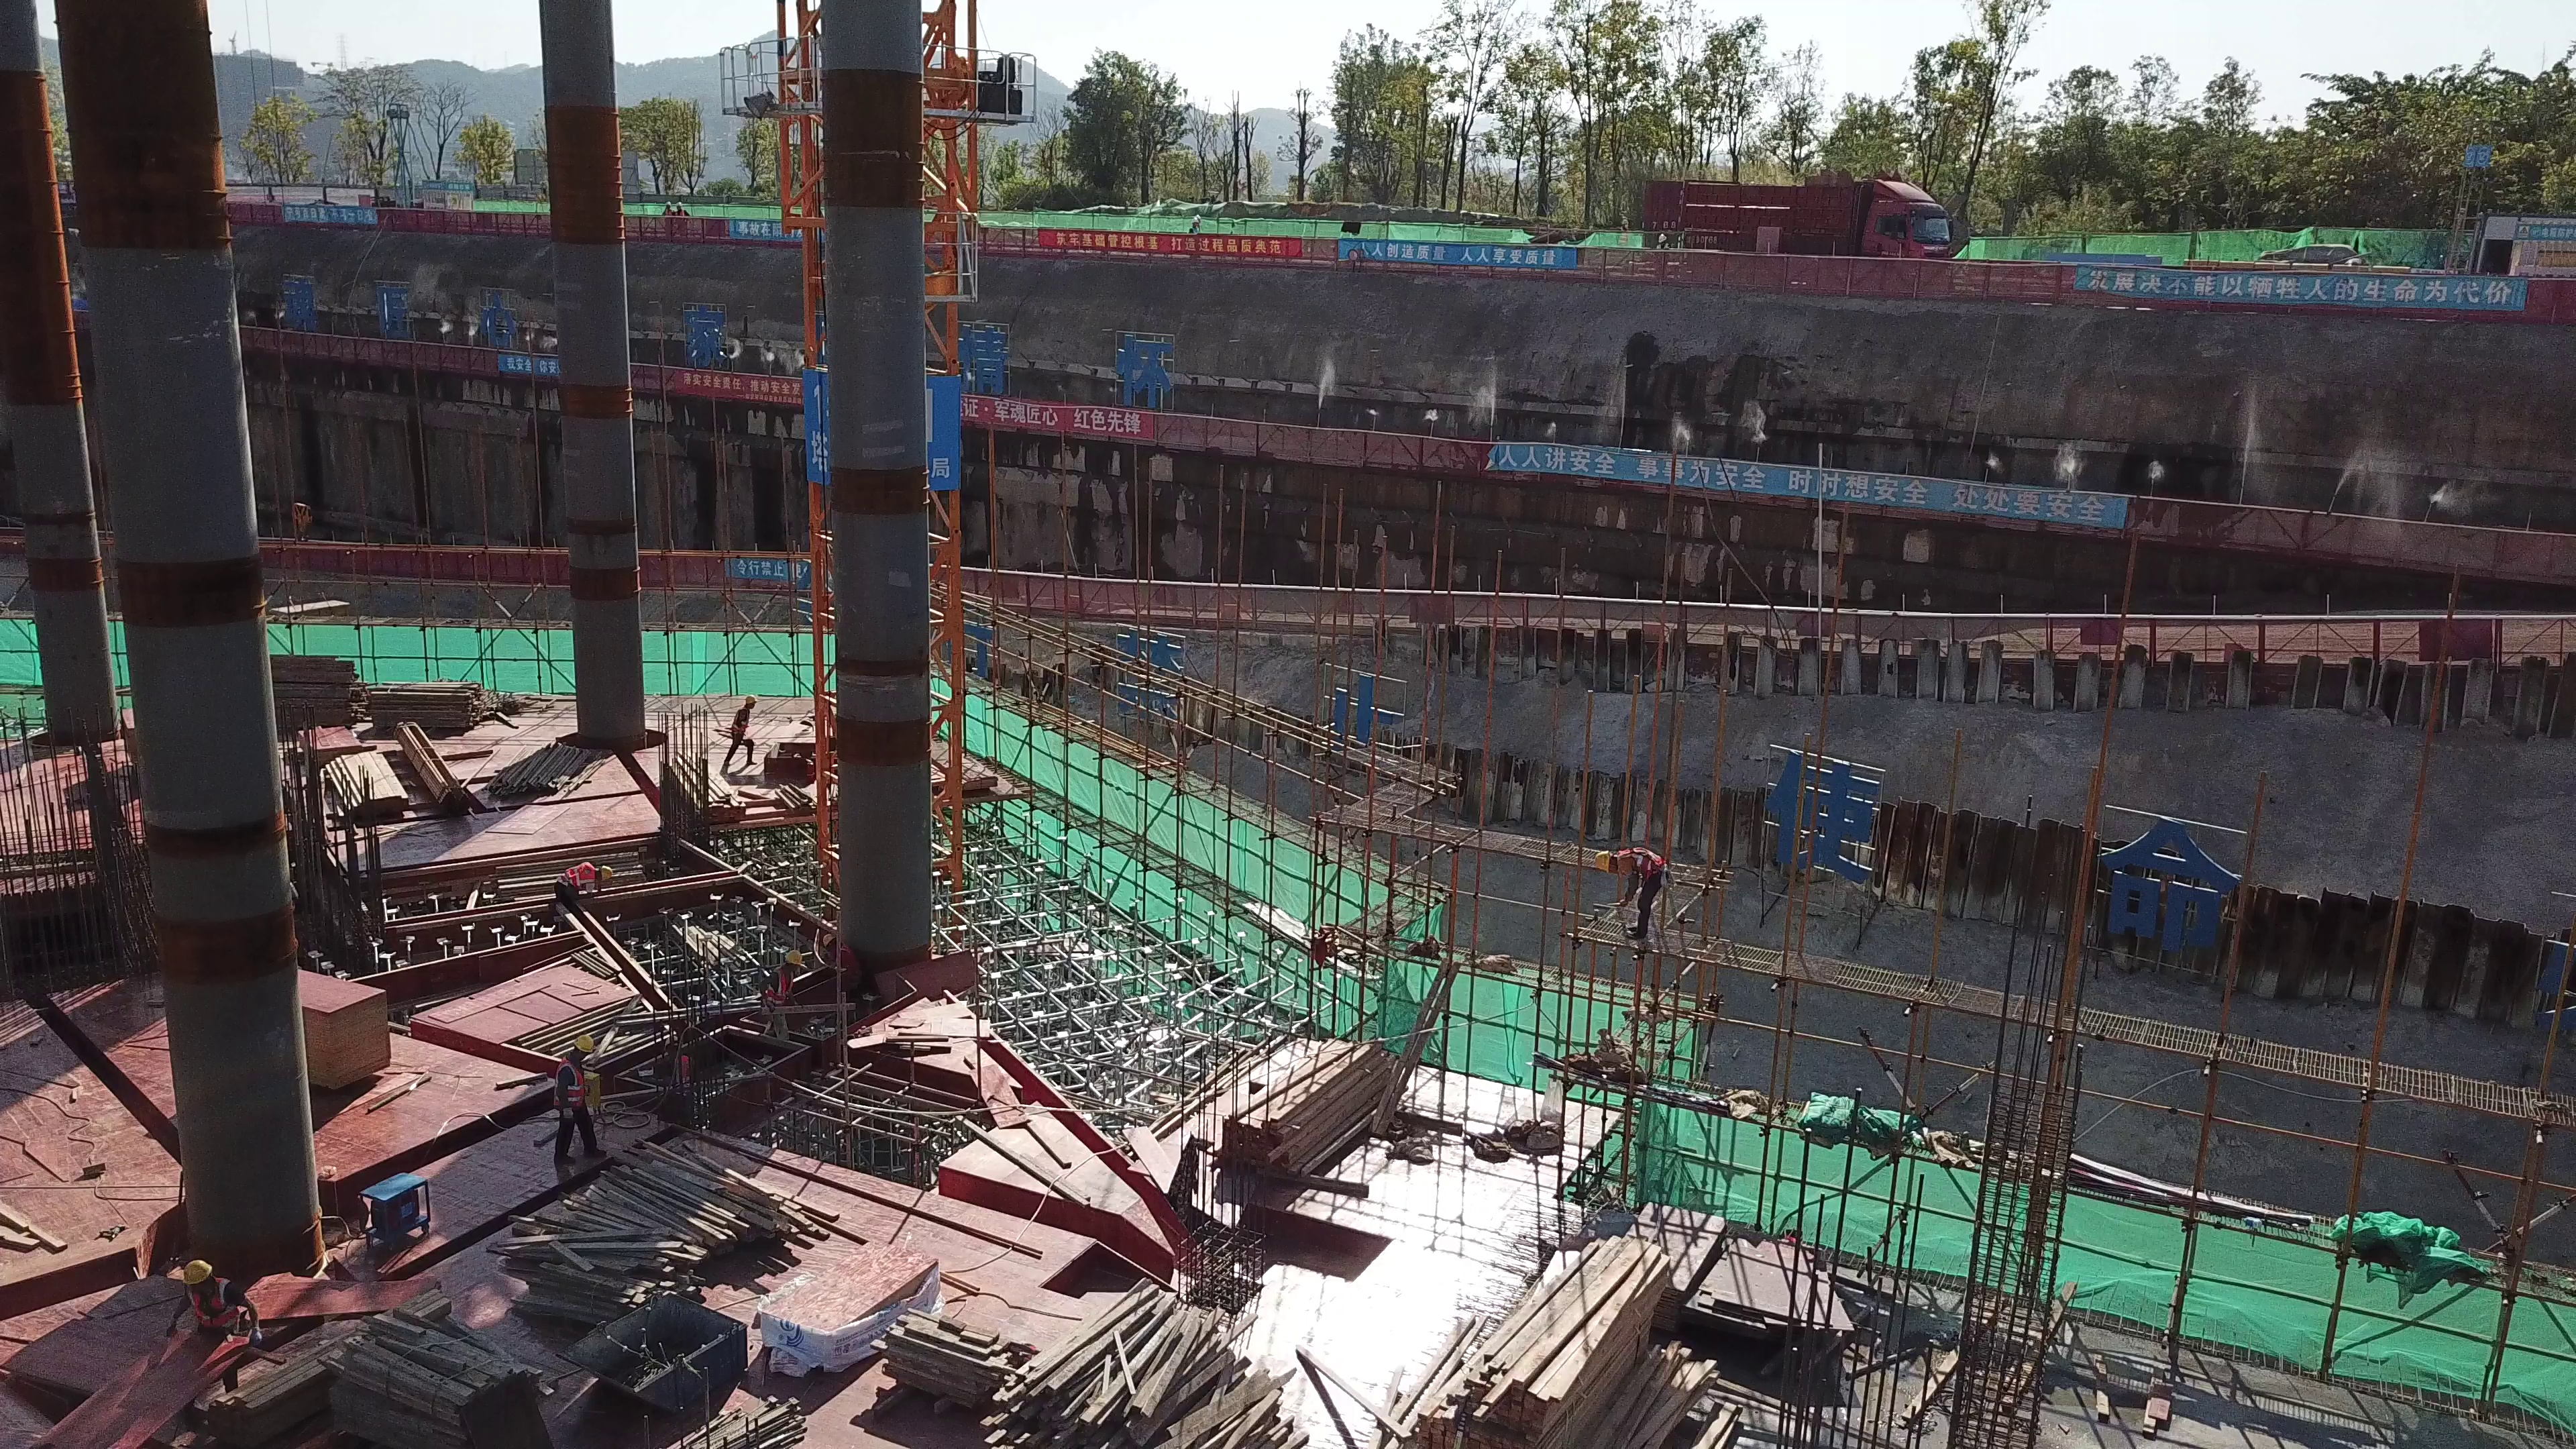board: (761, 1252, 921, 1352), (299, 969, 388, 1091)
cutter: (782, 716, 817, 780)
ebox: (580, 1073, 599, 1112)
fence: (1495, 438, 2134, 539), (963, 398, 1484, 479), (2084, 266, 2576, 343), (969, 568, 1503, 628), (1511, 596, 2046, 654), (977, 225, 1583, 272), (1588, 253, 2084, 297), (237, 321, 559, 383), (2293, 512, 2576, 578), (2053, 625, 2576, 657), (268, 542, 570, 586), (244, 205, 551, 237), (631, 361, 806, 404), (639, 551, 812, 594), (624, 219, 808, 245), (2130, 504, 2284, 533)
helmet: (179, 1260, 213, 1287), (574, 1034, 596, 1055), (1593, 849, 1609, 875), (786, 949, 802, 966), (600, 862, 612, 881), (745, 694, 756, 705), (822, 931, 831, 944), (1659, 234, 1668, 244), (676, 200, 682, 208), (665, 200, 671, 207)
hook: (292, 499, 309, 539)
hopper: (570, 1297, 746, 1414)
person: (164, 1260, 262, 1396), (1592, 848, 1672, 942), (554, 1034, 606, 1162), (765, 949, 799, 1036), (721, 696, 760, 767), (555, 861, 611, 908), (663, 1035, 693, 1117), (1657, 235, 1670, 276), (674, 200, 688, 219), (1189, 214, 1201, 235), (663, 201, 674, 215)
slogan: (1491, 443, 2134, 529), (2086, 272, 2523, 303), (1051, 228, 1301, 258), (969, 401, 1138, 439), (1336, 244, 1566, 267), (680, 370, 800, 400), (803, 378, 833, 487), (276, 204, 383, 228), (733, 557, 811, 587), (502, 353, 555, 378), (731, 220, 795, 238)
vest: (189, 1282, 237, 1330), (552, 1057, 586, 1116), (1614, 851, 1664, 881), (767, 967, 792, 1008), (564, 862, 596, 885)
wood: (1415, 1239, 1704, 1449), (340, 1326, 536, 1448), (1230, 1055, 1405, 1173)
